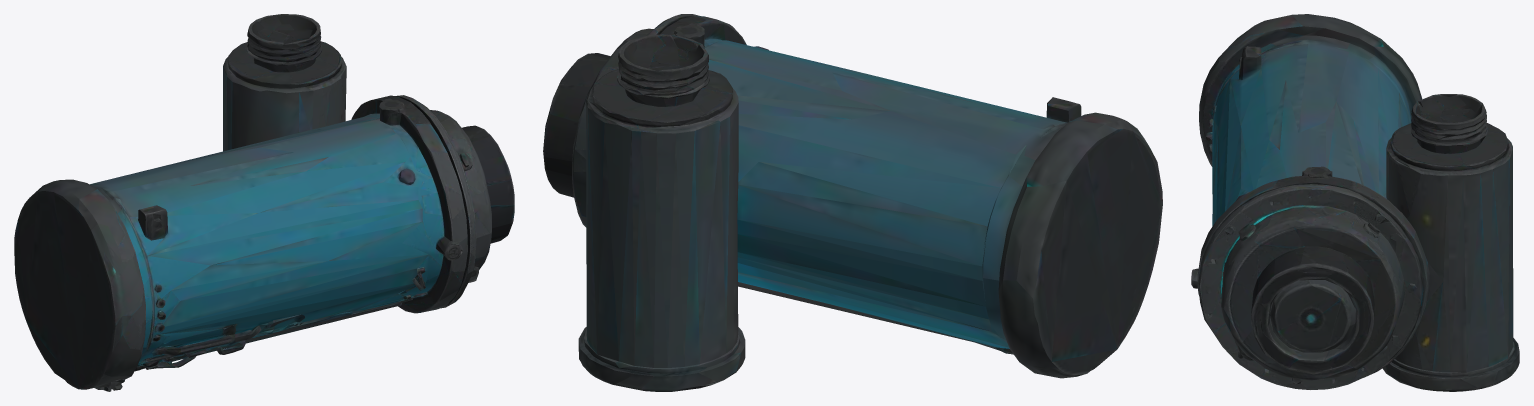
File: mx_battery_cell.glb
3 views of the same model, side by side, from view 1: azimuth 30°, elevation 25°; view 2: azimuth 150°, elevation 25°; view 3: azimuth 270°, elevation 25° (orthographic). The views are drawn at different scales.
Bounding box in the file's own units: 1.9 × 1.06 × 1.25.
Materials: 1 (1 with a texture image).
